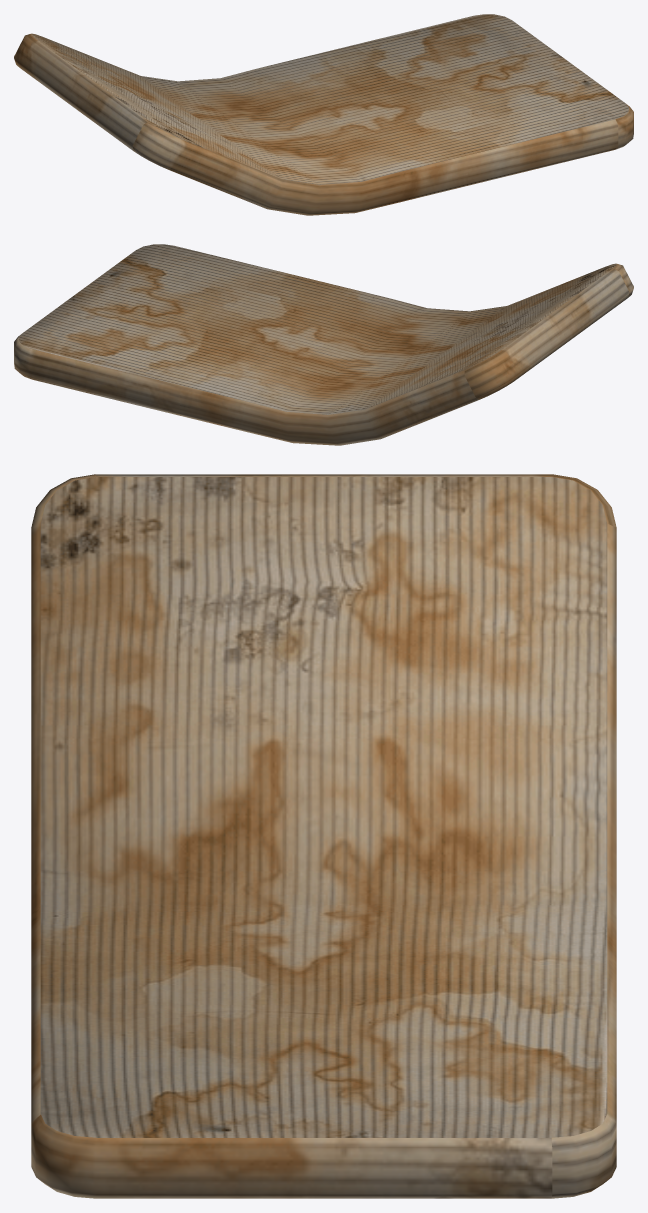
The model's file is mattress3.fbx.
The picture shows the model from 3 angles, top to bottom: view 1: azimuth 30°, elevation 25°; view 2: azimuth 150°, elevation 25°; view 3: azimuth 270°, elevation 25°; orthographic projection. The views are drawn at different scales.
Visible parts, largest first — view 1: mattress3; view 2: mattress3; view 3: mattress3.
Boxes of the visible parts, <box> form: mattress3: <box>14,14,633,215</box>; mattress3: <box>14,244,633,445</box>; mattress3: <box>31,474,616,1198</box>.
Size of the model in its own units: 2.21 by 0.5447 by 1.13.
1 material, 1 textured.
